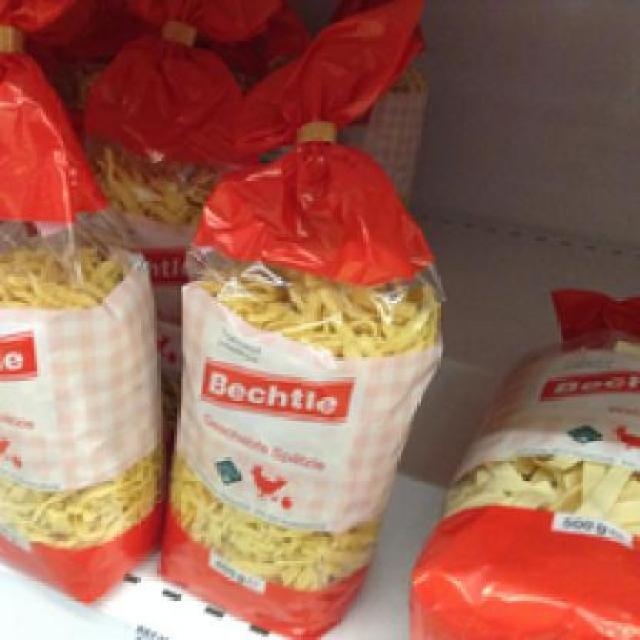Pasta: (157, 128, 443, 638), (0, 31, 157, 600), (412, 286, 638, 632)
